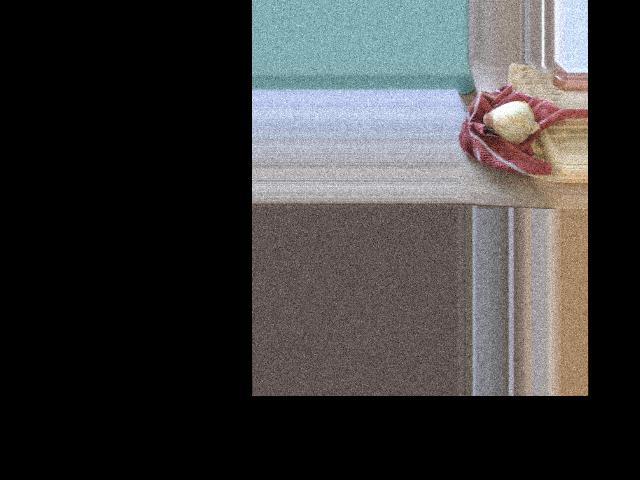onion: (486, 97, 535, 145)
